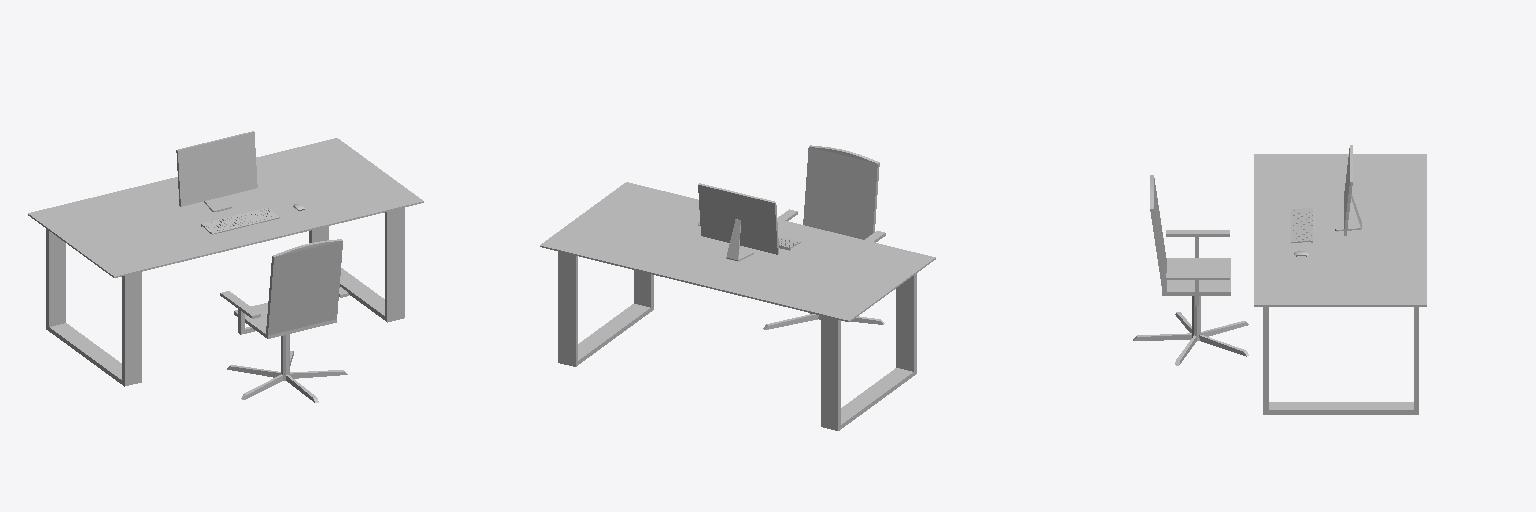
The model's file is deskcomp.obj.
3 views of the same model, side by side, from view 1: azimuth 30°, elevation 25°; view 2: azimuth 150°, elevation 25°; view 3: azimuth 270°, elevation 25° (orthographic).
Parts seen in each view (by area): view 1: Cube.006_Cube.006, Cube.009_Cube.009, Cube.013_Cube.013, Cube.014_Cube.014; view 2: Cube.006_Cube.006, Cube.009_Cube.009, Cube.013_Cube.013; view 3: Cube.006_Cube.006, Cube.009_Cube.009, Cube.014_Cube.014.
Boxes of the visible parts, x1,y1,x2,y2 form: Cube.006_Cube.006: [28, 138, 423, 386]; Cube.009_Cube.009: [220, 239, 348, 402]; Cube.013_Cube.013: [176, 131, 257, 206]; Cube.014_Cube.014: [201, 207, 279, 234]; Cube.006_Cube.006: [540, 182, 935, 430]; Cube.009_Cube.009: [763, 145, 885, 329]; Cube.013_Cube.013: [698, 183, 778, 254]; Cube.006_Cube.006: [1254, 154, 1426, 414]; Cube.009_Cube.009: [1133, 175, 1248, 365]; Cube.014_Cube.014: [1291, 208, 1312, 242].
Bounding box in the file's own units: 495 × 276 × 407.